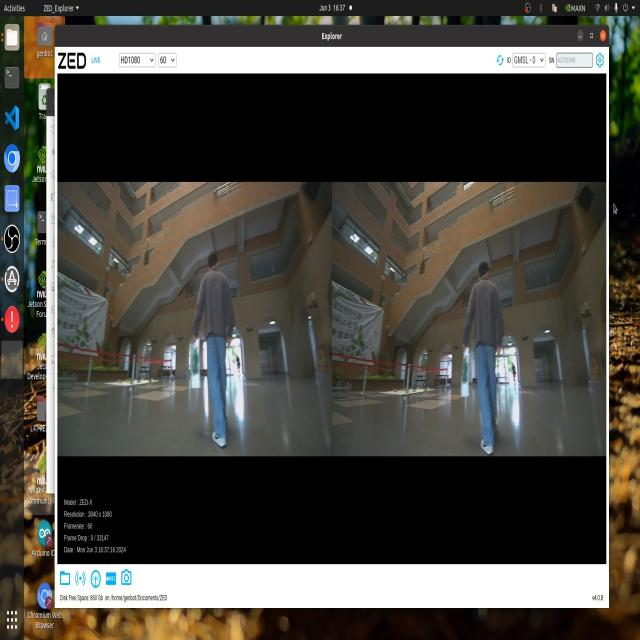green: (459, 351, 473, 393), (190, 344, 200, 382)
